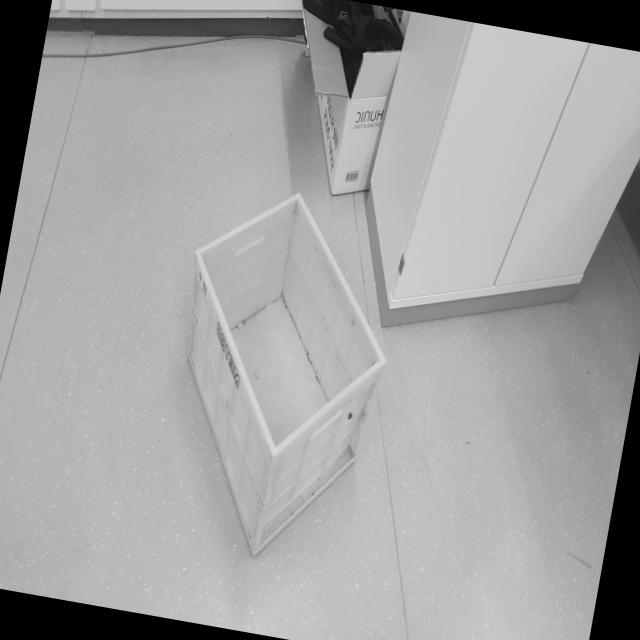box: (139, 162, 424, 592)
